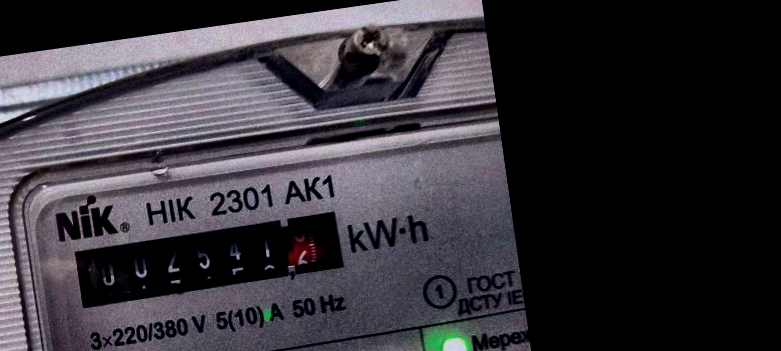0: (128, 246, 151, 281), (98, 256, 119, 288)
1: (254, 225, 274, 260)
2: (158, 240, 184, 277)
4: (223, 231, 244, 264)
5: (192, 238, 212, 272)
6: (292, 244, 311, 267)
screen: (57, 193, 367, 324)
